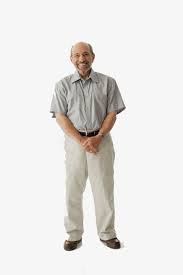standing: (45, 37, 131, 257)
